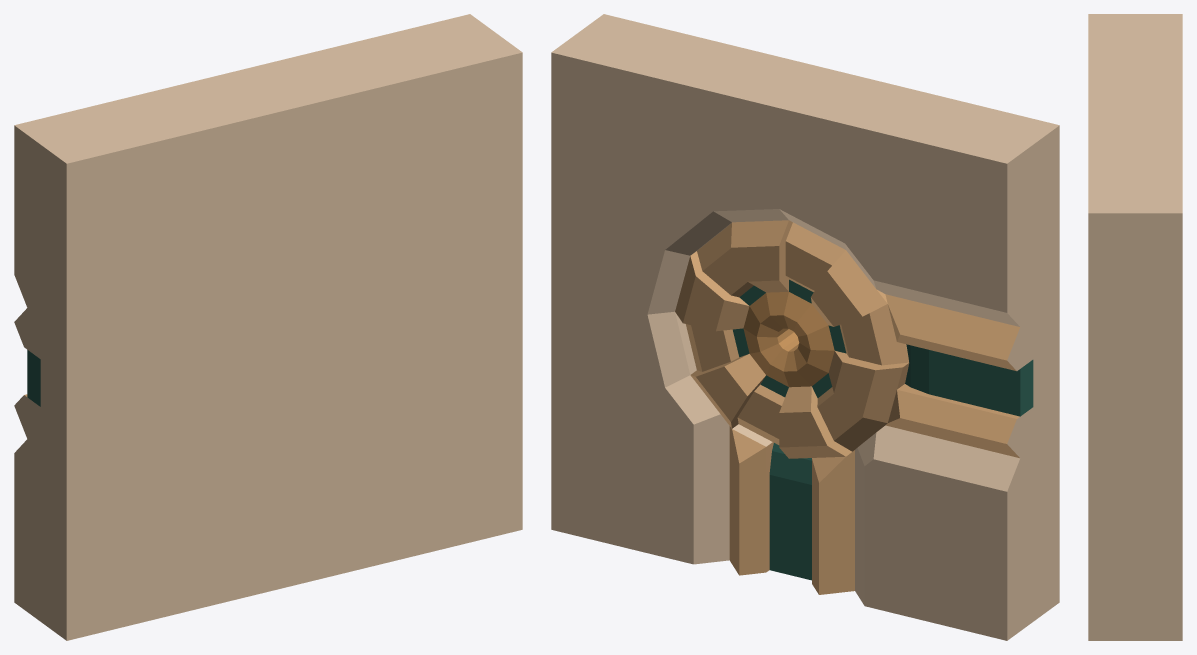
File: Puzzle_Wall_Conduit_Emitter_Corner.fbx
The picture shows the model from 3 angles, left to right: view 1: azimuth 30°, elevation 25°; view 2: azimuth 150°, elevation 25°; view 3: azimuth 270°, elevation 25°; orthographic projection. The views are drawn at different scales.
Parts seen in each view (by area): view 1: Sandstone_Trim.Sandstone_Trim.Sandstone_Trim.Sandstone_Trim.; view 2: Sandstone_Trim.Sandstone_Trim.Sandstone_Trim.Sandstone_Trim., Sandstone_5.Sandstone_5.Sandstone_5.Sandstone_5.Sandstone_5., Sandstone_5.Sandstone_5.Sandstone_5.Sandstone_5.object4, Sandstone_6.Sandstone_6.Sandstone_6.Sandstone_6.Sandstone_6., object2, object1, object3; view 3: Sandstone_Trim.Sandstone_Trim.Sandstone_Trim.Sandstone_Trim..
Part boxes in pixels (box(x1,y1,x2,y2)): Sandstone_Trim.Sandstone_Trim.Sandstone_Trim.Sandstone_Trim.: box(14, 14, 522, 640); Sandstone_Trim.Sandstone_Trim.Sandstone_Trim.Sandstone_Trim.: box(551, 14, 1059, 640); Sandstone_5.Sandstone_5.Sandstone_5.Sandstone_5.Sandstone_5.: box(675, 220, 909, 458); Sandstone_5.Sandstone_5.Sandstone_5.Sandstone_5.object4: box(729, 294, 1020, 594); Sandstone_6.Sandstone_6.Sandstone_6.Sandstone_6.Sandstone_6.: box(743, 292, 834, 387); object2: box(905, 344, 1033, 416); object1: box(769, 443, 811, 580); object3: box(733, 279, 846, 397); Sandstone_Trim.Sandstone_Trim.Sandstone_Trim.Sandstone_Trim.: box(1088, 14, 1182, 640).
Bounding box in the file's own units: 1 × 1 × 0.2.
